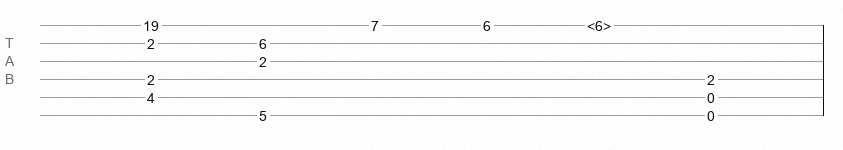0: (707, 108, 715, 118), (707, 90, 715, 100)
19: (143, 18, 159, 28)
2: (147, 72, 155, 82), (147, 36, 155, 46), (259, 54, 267, 64), (707, 72, 715, 82)
4: (147, 90, 155, 100)
5: (259, 108, 267, 118)
6: (259, 36, 267, 46), (483, 18, 491, 28)
7: (371, 18, 379, 28)
harmonic: (587, 18, 611, 28)
